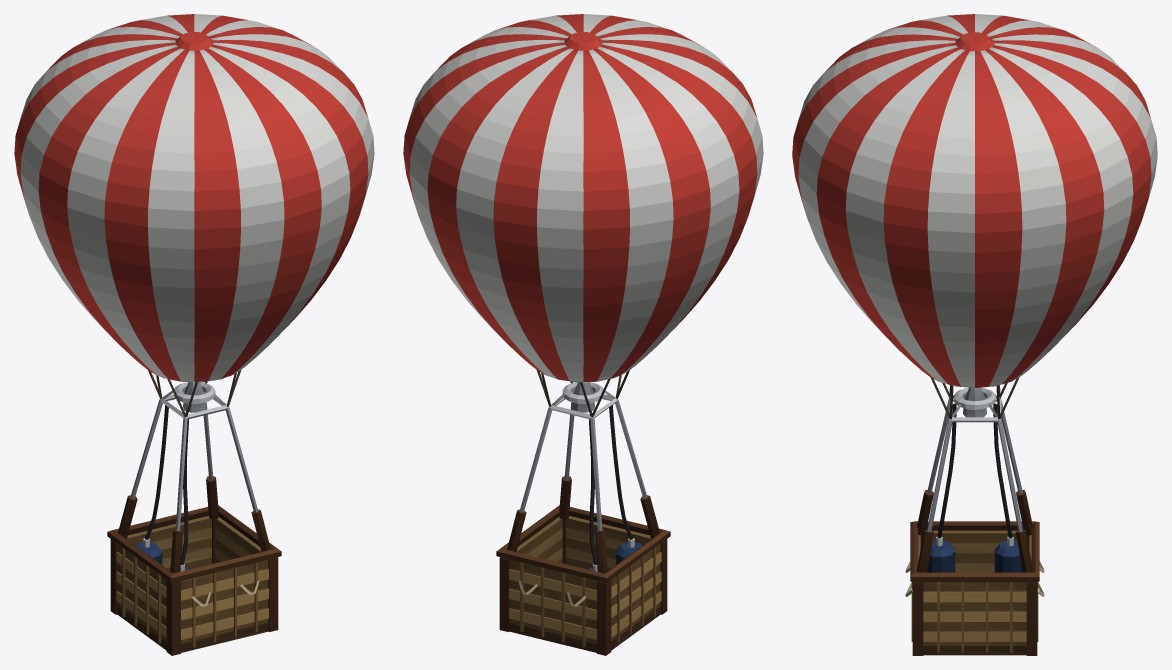
Rendered from mt_balloon_redwhite.glb.
The picture shows the model from 3 angles, left to right: view 1: azimuth 30°, elevation 25°; view 2: azimuth 150°, elevation 25°; view 3: azimuth 270°, elevation 25°; orthographic projection.
Parts seen in each view (by area): view 1: envelope_m, base; view 2: envelope_m, base; view 3: envelope_m, base.
Part boxes in pixels (x1=…): envelope_m: x1=14, y1=14, x2=374, y2=382; base: x1=107, y1=370, x2=281, y2=655; envelope_m: x1=403, y1=14, x2=763, y2=382; base: x1=496, y1=370, x2=670, y2=655; envelope_m: x1=792, y1=14, x2=1157, y2=387; base: x1=905, y1=377, x2=1044, y2=655.
Size of the model in its own units: 0.9029 by 1.62 by 0.9029.
